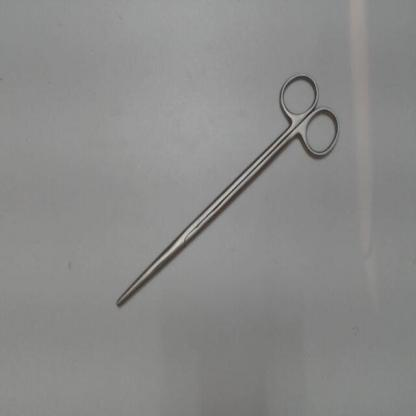9 Metzenbaum Scissors: (111, 65, 345, 313)
